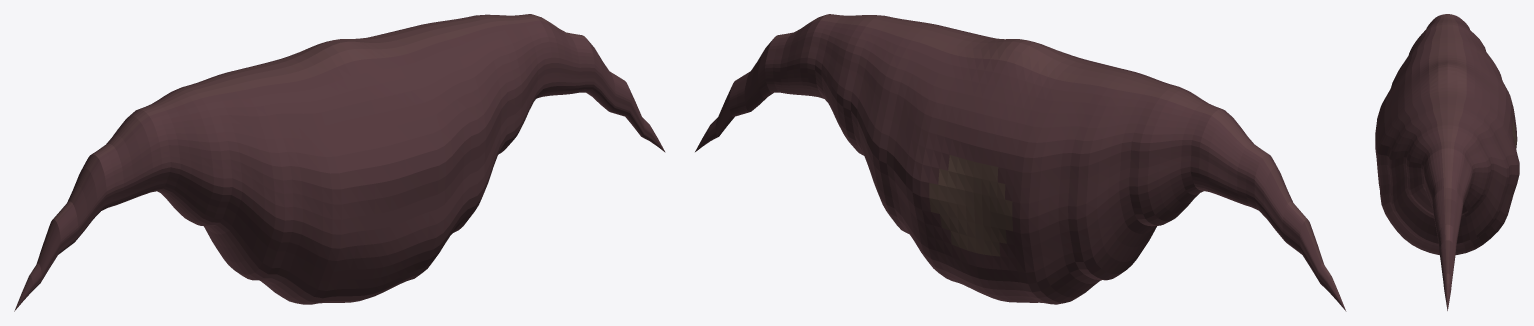
3 views of the same model, side by side, from view 1: azimuth 30°, elevation 25°; view 2: azimuth 150°, elevation 25°; view 3: azimuth 270°, elevation 25° (orthographic). The views are drawn at different scales.
Visible parts, largest first — view 1: WholeBroadFruitAndTwoDowncurvedShoulderHorns; view 2: WholeBroadFruitAndTwoDowncurvedShoulderHorns; view 3: WholeBroadFruitAndTwoDowncurvedShoulderHorns.
Part boxes in pixels (bbox=[...]): WholeBroadFruitAndTwoDowncurvedShoulderHorns: bbox=[14, 14, 665, 311]; WholeBroadFruitAndTwoDowncurvedShoulderHorns: bbox=[695, 14, 1346, 311]; WholeBroadFruitAndTwoDowncurvedShoulderHorns: bbox=[1375, 14, 1519, 310].
Bounding box in the file's own units: 0.082 × 0.0294 × 0.0224.
